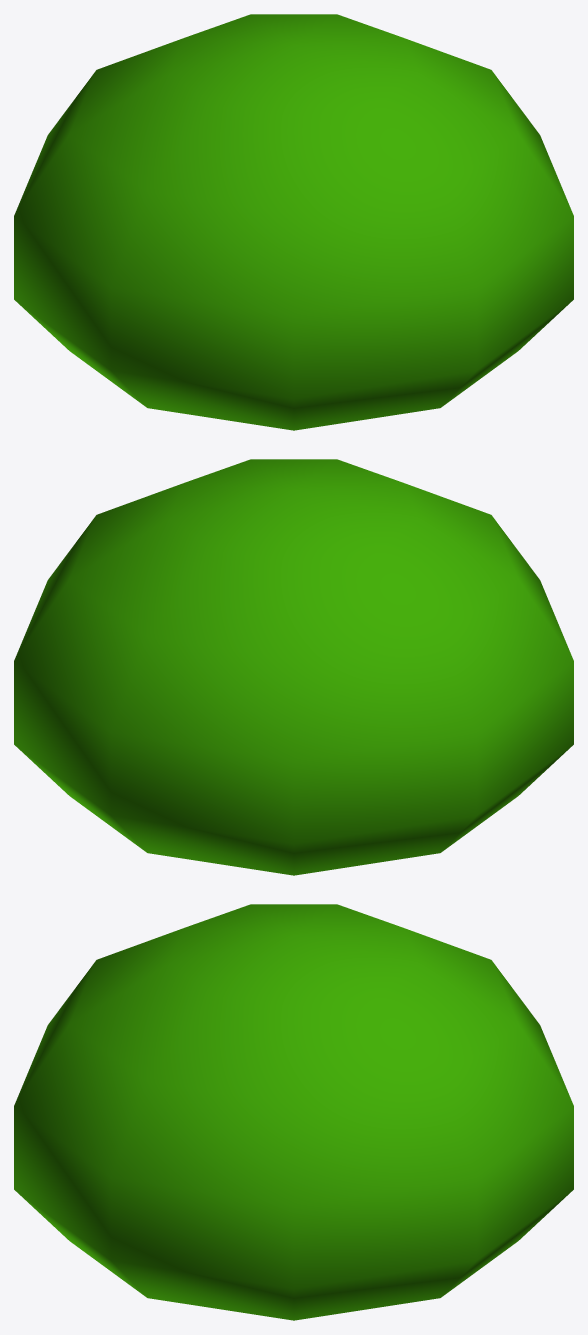
File: SM_Bush_01.fbx
3 renders of one model, top to bottom at view 1: azimuth 30°, elevation 25°; view 2: azimuth 150°, elevation 25°; view 3: azimuth 270°, elevation 25°, orthographic.
Parts seen in each view (by area): view 1: bush; view 2: bush; view 3: bush.
Boxes of the visible parts, <box> form: bush: <box>14,14,573,430</box>; bush: <box>14,459,573,875</box>; bush: <box>14,904,573,1320</box>.
Bounding box in the file's own units: 103 × 104 × 62.93.
